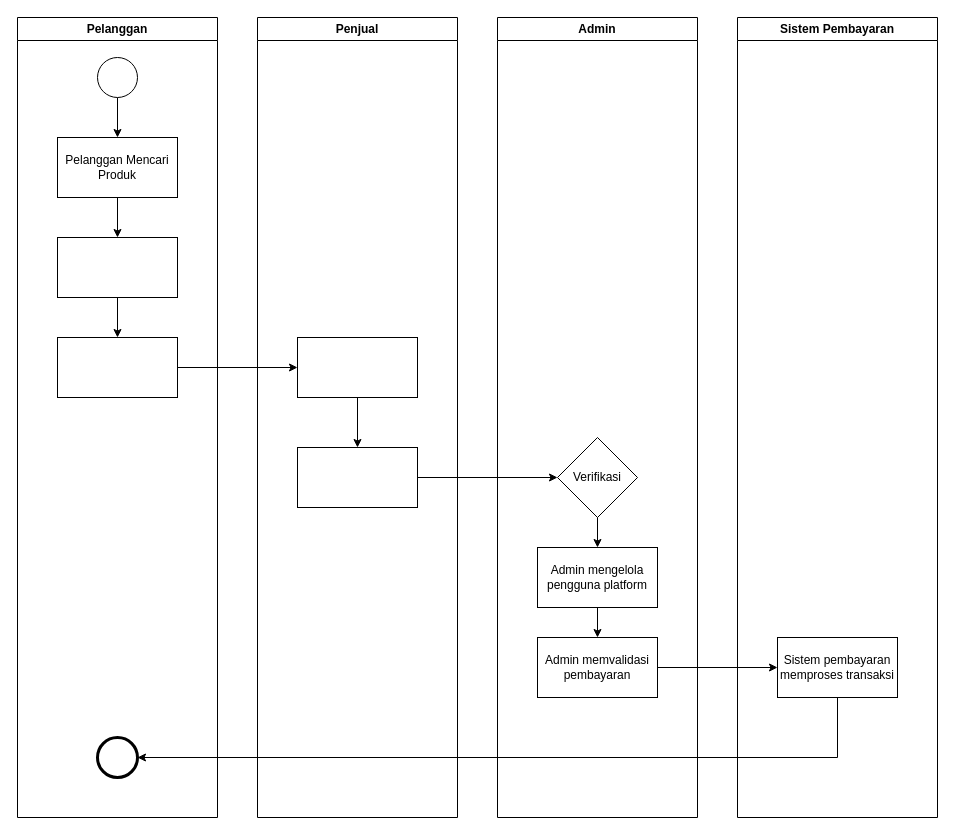
The diagram is 955 pixels wide and 835 high, and some of its shapes have lost their labels. Each missing label, with the centre of its shape:
Pelanggan Melacak Pengiriman Produk: the point at 117,367
Pelanggan Membeli Produk: the point at 117,267
Penjual mendaftarkan produk yang ingin dijual: the point at 357,367
Penjual mengelola pesanan yang masuk: the point at 357,477
